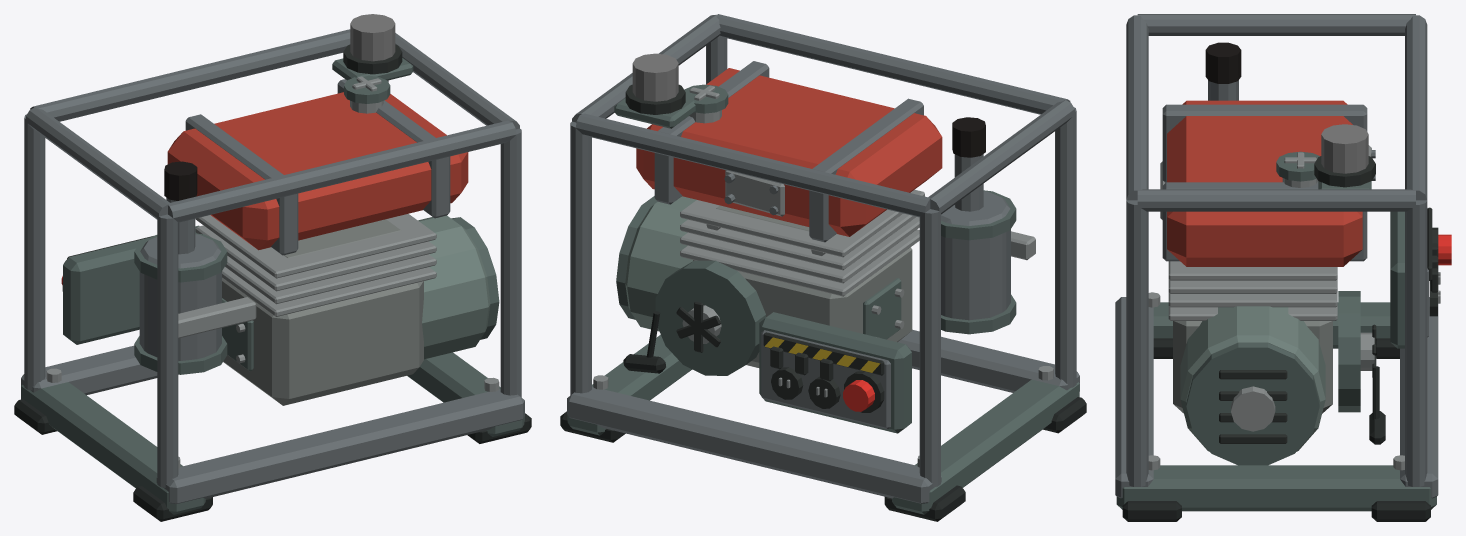
File: generator.glb
The picture shows the model from 3 angles, left to right: view 1: azimuth 30°, elevation 25°; view 2: azimuth 150°, elevation 25°; view 3: azimuth 270°, elevation 25°; orthographic projection. The views are drawn at different scales.
Parts seen in each view (by area): view 1: generator, Lamp; view 2: generator, Lamp; view 3: generator, Lamp.
Boxes of the visible parts, left/top/right/bottom form: generator: left=14, top=29, right=531, bottom=521; Lamp: left=350, top=14, right=395, bottom=61; generator: left=560, top=14, right=1086, bottom=521; Lamp: left=632, top=53, right=678, bottom=101; generator: left=1115, top=14, right=1451, bottom=521; Lamp: left=1321, top=124, right=1368, bottom=173.
Size of the model in its own units: 1.55 by 1.35 by 1.14.
